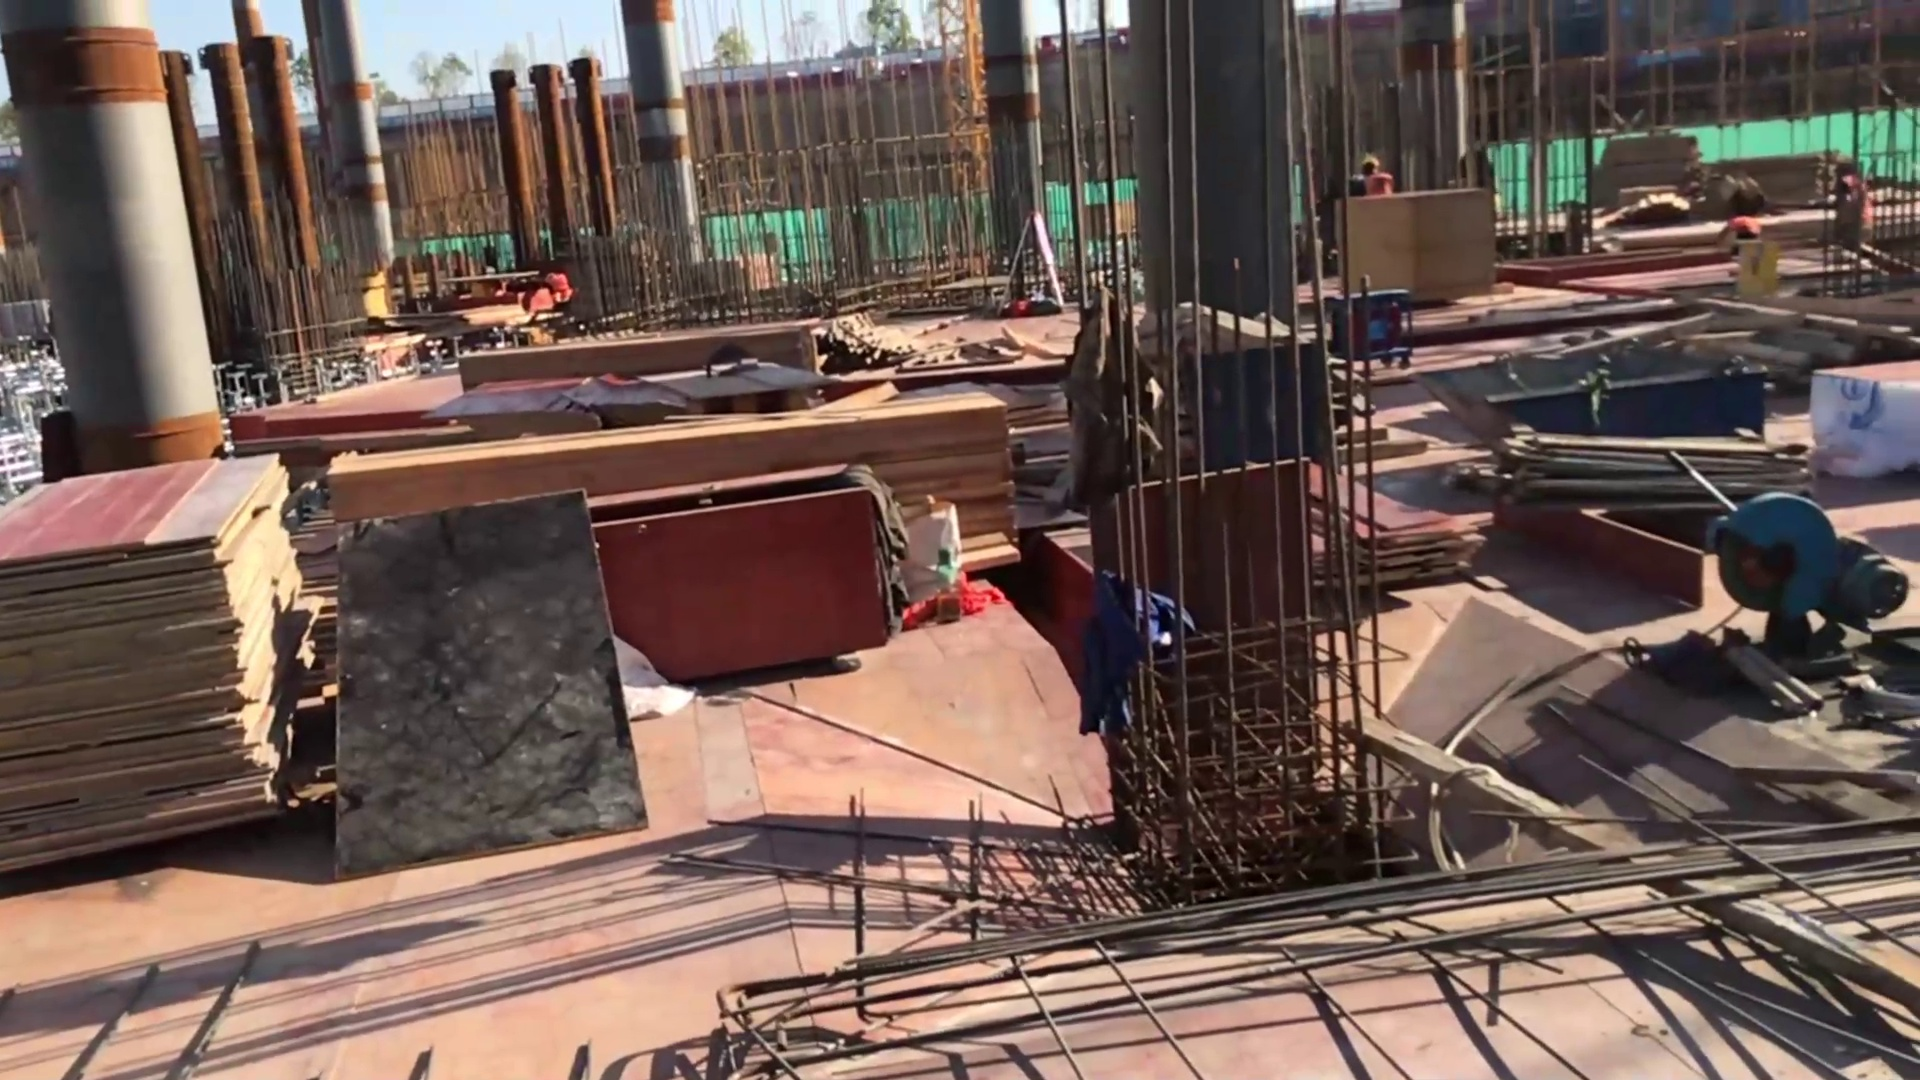board: (4, 454, 292, 872), (1520, 430, 1792, 508), (1359, 474, 1478, 588)
person: (1354, 153, 1390, 191)
wood: (331, 366, 1028, 577)
